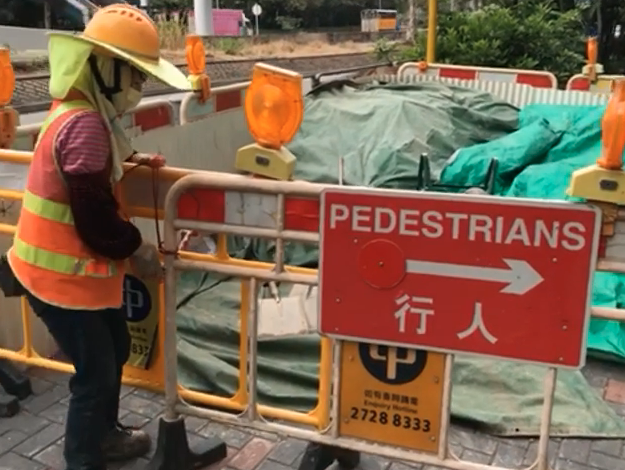Hard Hat: (70, 4, 162, 109)
Person: (17, 7, 164, 466)
Vest: (19, 69, 137, 308)
